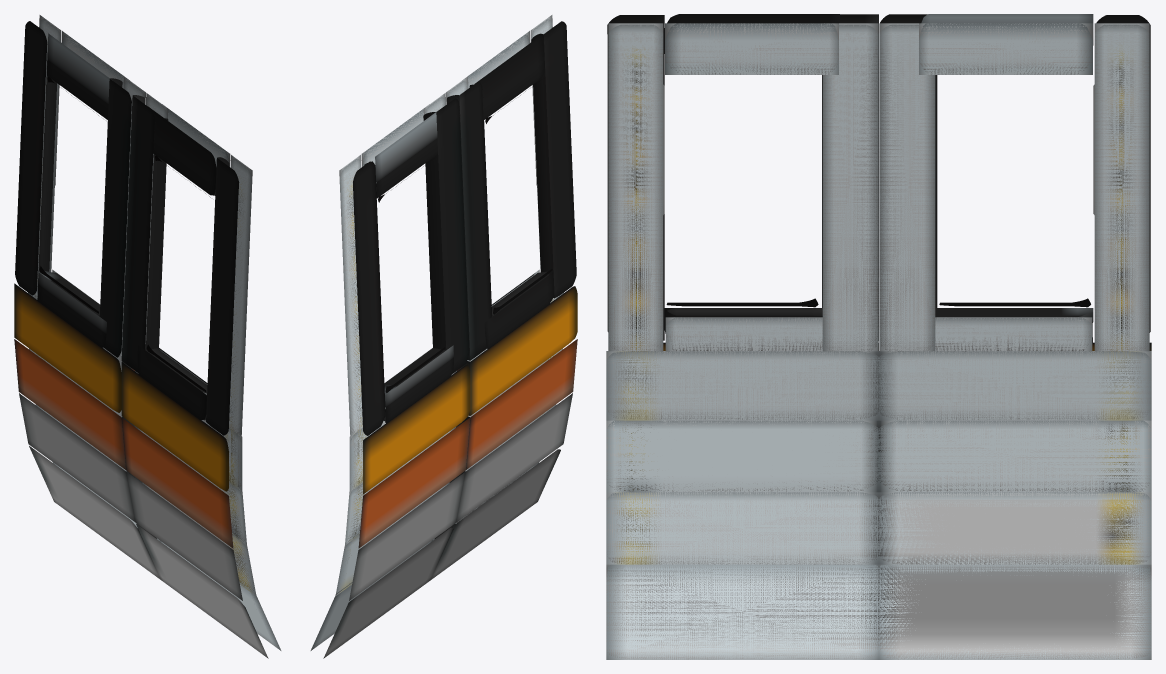
File: trm02_doors.obj
The picture shows the model from 3 angles, left to right: view 1: azimuth 30°, elevation 25°; view 2: azimuth 150°, elevation 25°; view 3: azimuth 270°, elevation 25°; orthographic projection. The views are drawn at different scales.
Visible parts, largest first — view 1: door_left, door_right, door_left_in, door_right_in; view 2: door_left, door_right, door_right_in, door_left_in; view 3: door_left_in, door_right_in, door_left, door_right.
Boxes of the visible parts, x1=… form: door_left: x1=121, y1=95, x2=268, y2=658; door_right: x1=14, y1=21, x2=160, y2=579; door_left_in: x1=135, y1=93, x2=281, y2=650; door_right_in: x1=28, y1=15, x2=159, y2=540; door_left: x1=431, y1=21, x2=577, y2=579; door_right: x1=323, y1=98, x2=470, y2=658; door_right_in: x1=310, y1=93, x2=456, y2=650; door_left_in: x1=432, y1=15, x2=563, y2=540; door_left_in: x1=606, y1=23, x2=878, y2=659; door_right_in: x1=879, y1=23, x2=1151, y2=659; door_left: x1=607, y1=14, x2=878, y2=350; door_right: x1=880, y1=14, x2=1151, y2=350.
Bounding box in the file's own units: 0.2485 × 2.22 × 1.75.
Materials: 2 (2 with a texture image).
